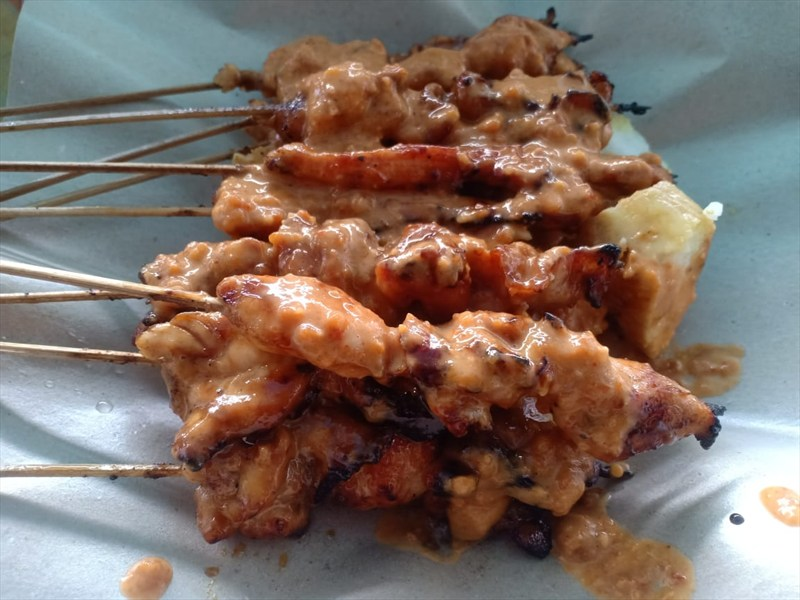Sate Ayam: (152, 79, 653, 476)
